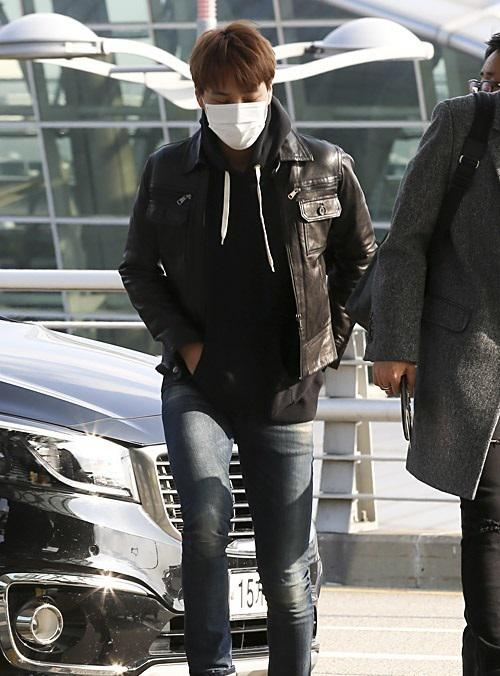OK: (202, 78, 272, 148)
